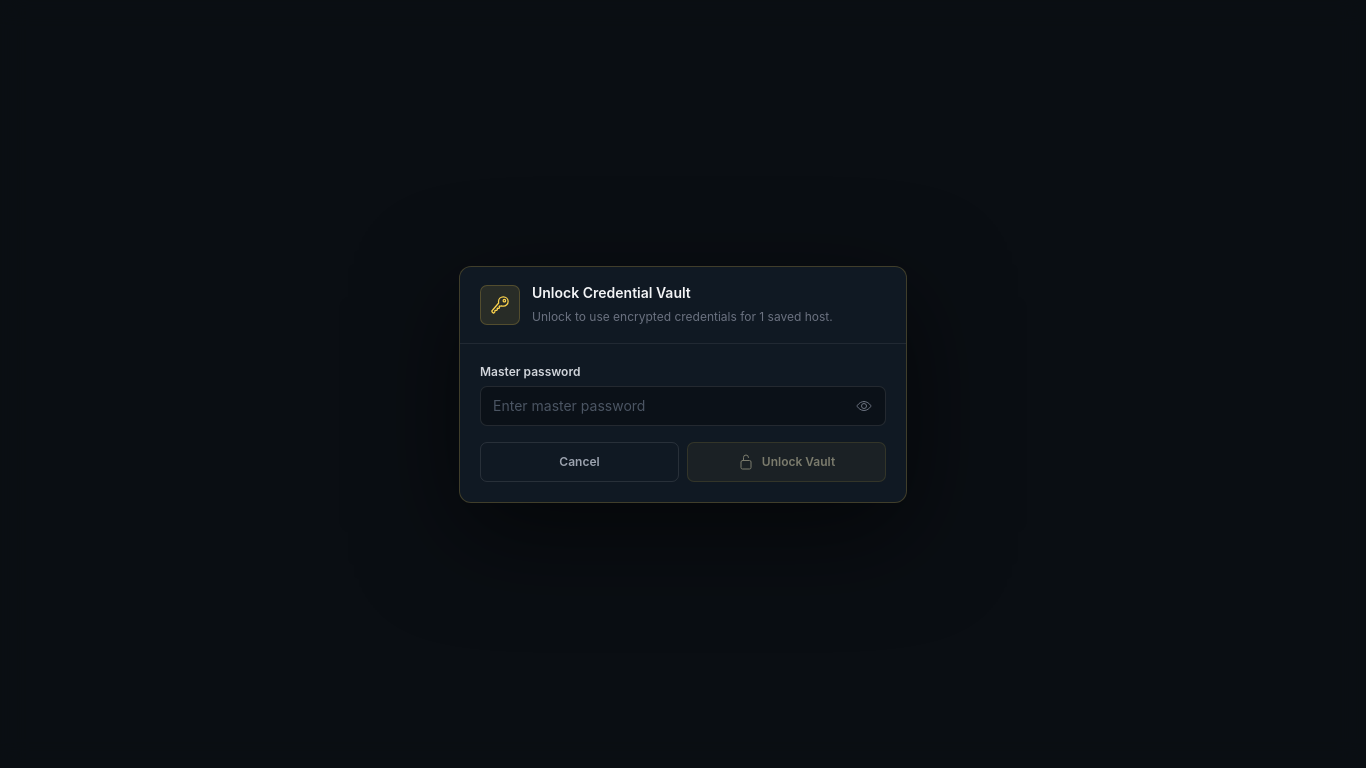
Scenario: VaultUnlockModal › keeps the dialog open and displays an unlock error
Type "wrong-password" into the password field labelled "Master password" at (683, 406), box [480, 386, 886, 426]
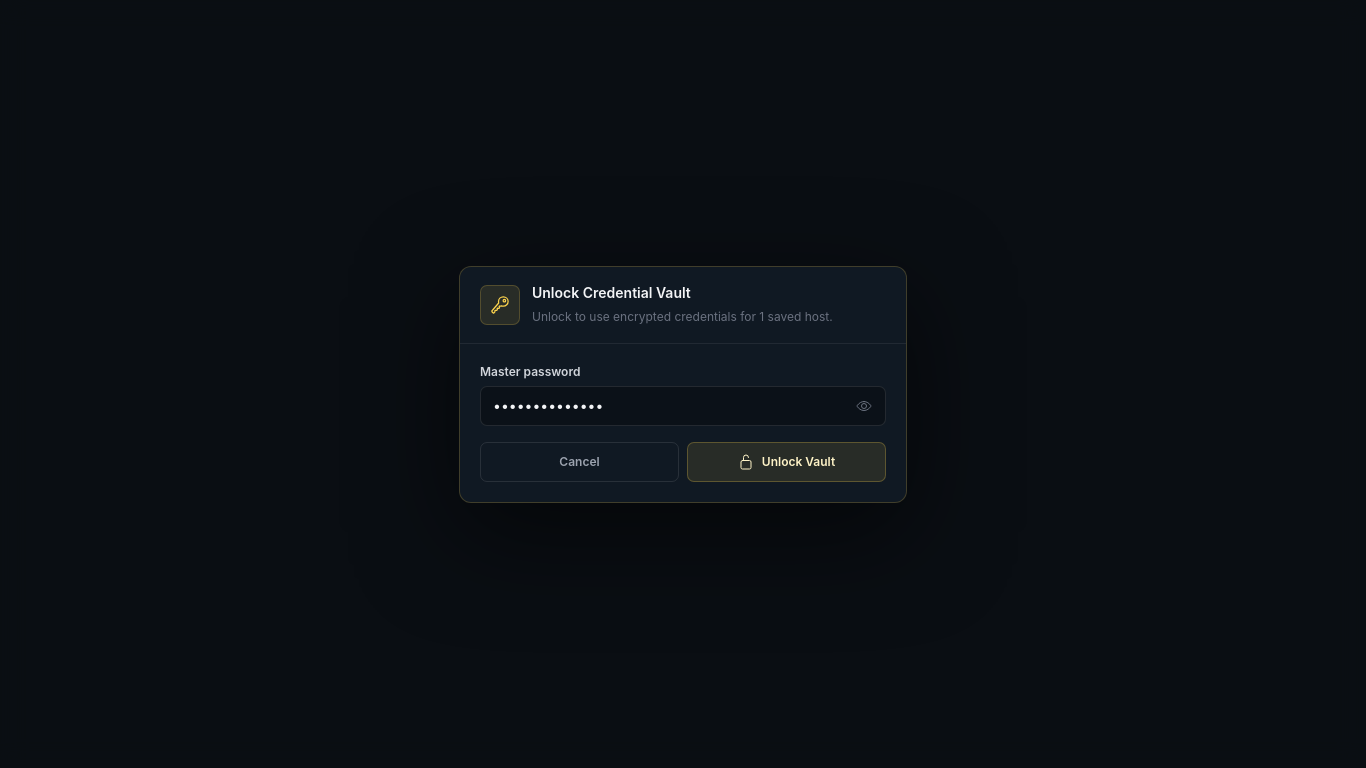
Click the button "Unlock Vault" at (786, 462), box [687, 442, 886, 482]
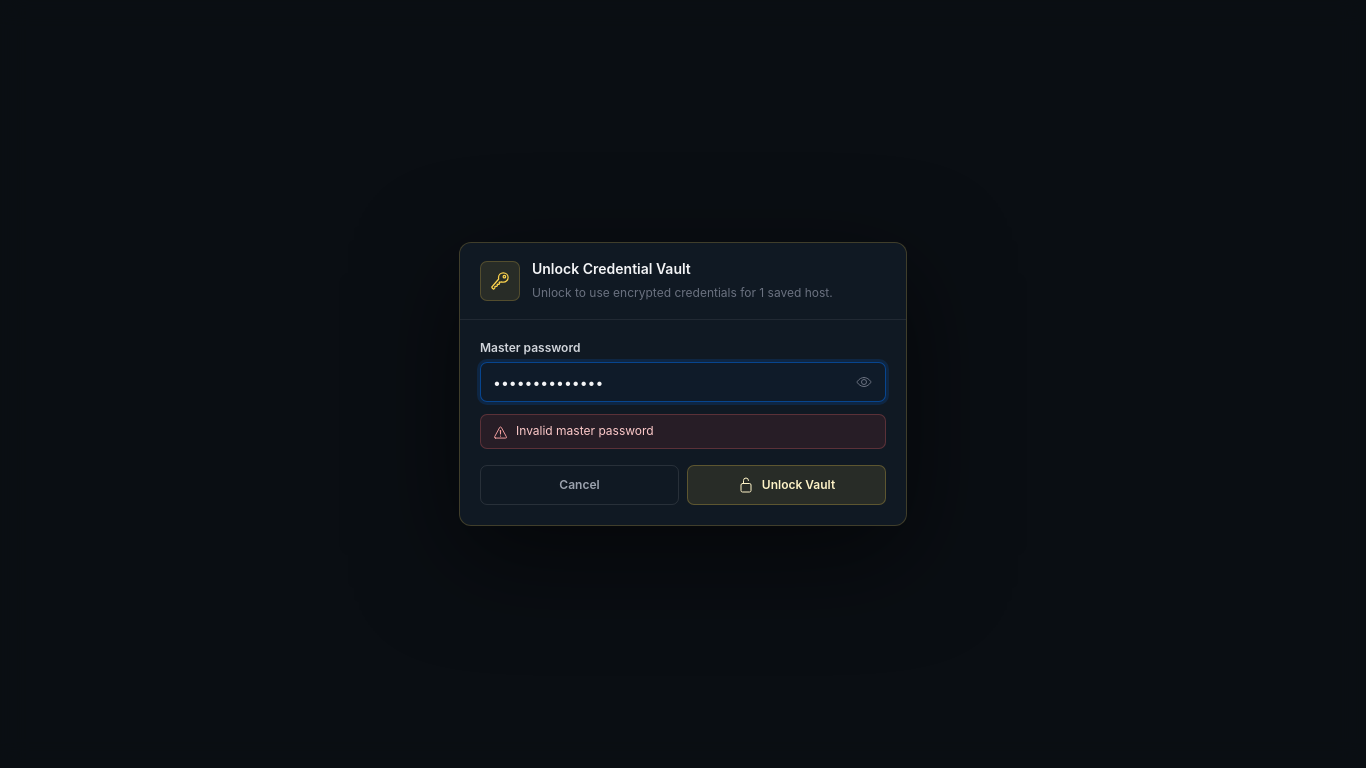
Expected: the message reads "Invalid master password", [516, 423, 654, 438]
